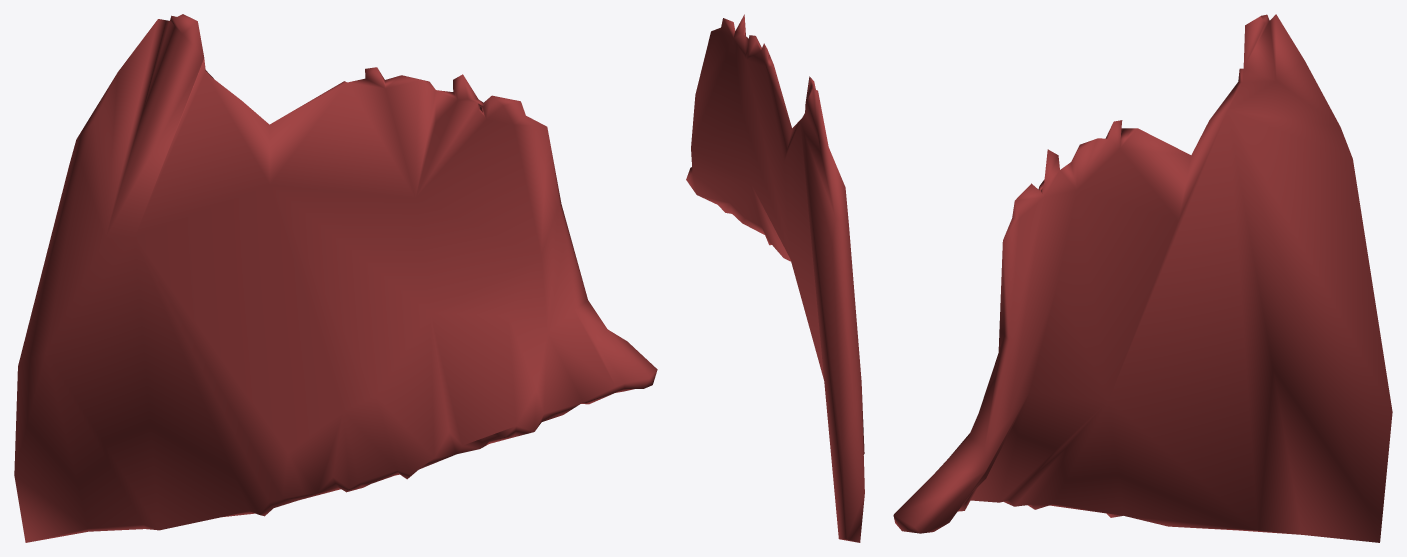
File: levator-anguli-oris-r.glb
3 views of the same model, side by side, from view 1: azimuth 30°, elevation 25°; view 2: azimuth 150°, elevation 25°; view 3: azimuth 270°, elevation 25° (orthographic). The views are drawn at different scales.
Parts seen in each view (by area): view 1: Levator anguli oris.r; view 2: Levator anguli oris.r; view 3: Levator anguli oris.r.
Boxes of the visible parts, x1,y1,x2,y2 form: Levator anguli oris.r: (14, 14, 657, 542); Levator anguli oris.r: (686, 14, 864, 542); Levator anguli oris.r: (893, 14, 1392, 542).
Size of the model in its own units: 0.017 by 0.02 by 0.0156.
